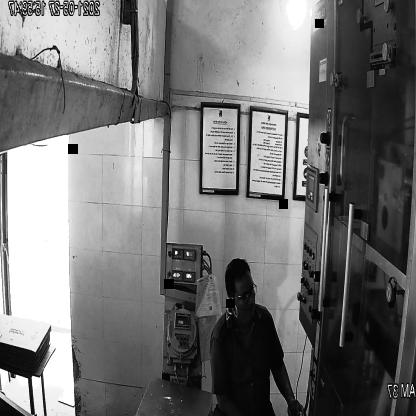goggles: (228, 280, 260, 306)
